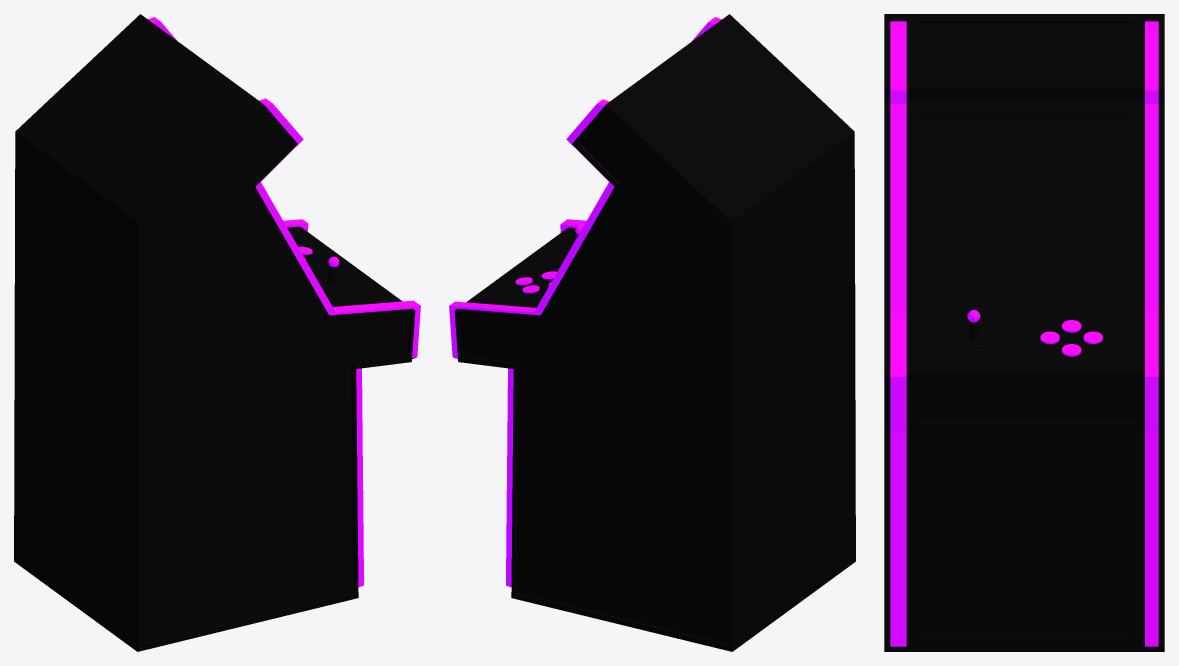
File: Arcade Machine Purple.glb
3 renders of one model, left to right at view 1: azimuth 30°, elevation 25°; view 2: azimuth 150°, elevation 25°; view 3: azimuth 270°, elevation 25°, orthographic. The views are drawn at different scales.
Visible parts, largest first — view 1: Arcade Machine Purple; view 2: Arcade Machine Purple; view 3: Arcade Machine Purple.
Boxes of the visible parts, x1,y1,x2,y2 form: Arcade Machine Purple: (14,14,420,651); Arcade Machine Purple: (449,14,855,651); Arcade Machine Purple: (884,14,1164,651).
Size of the model in its own units: 1.74 by 3 by 1.3.
